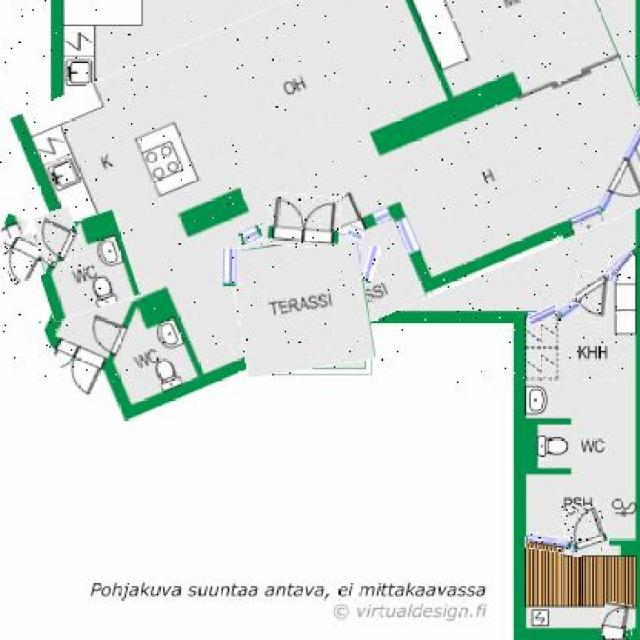door: (269, 194, 342, 248), (38, 209, 82, 262), (562, 506, 606, 556), (3, 234, 43, 283), (574, 272, 609, 323), (602, 603, 636, 640), (0, 215, 25, 254)
window: (526, 534, 572, 552), (222, 248, 240, 286), (608, 255, 635, 280), (529, 306, 560, 323), (365, 246, 377, 283), (240, 226, 262, 245), (556, 303, 578, 320), (348, 226, 363, 242)
zone: (0, 0, 640, 383), (234, 235, 371, 372), (34, 216, 134, 316)
